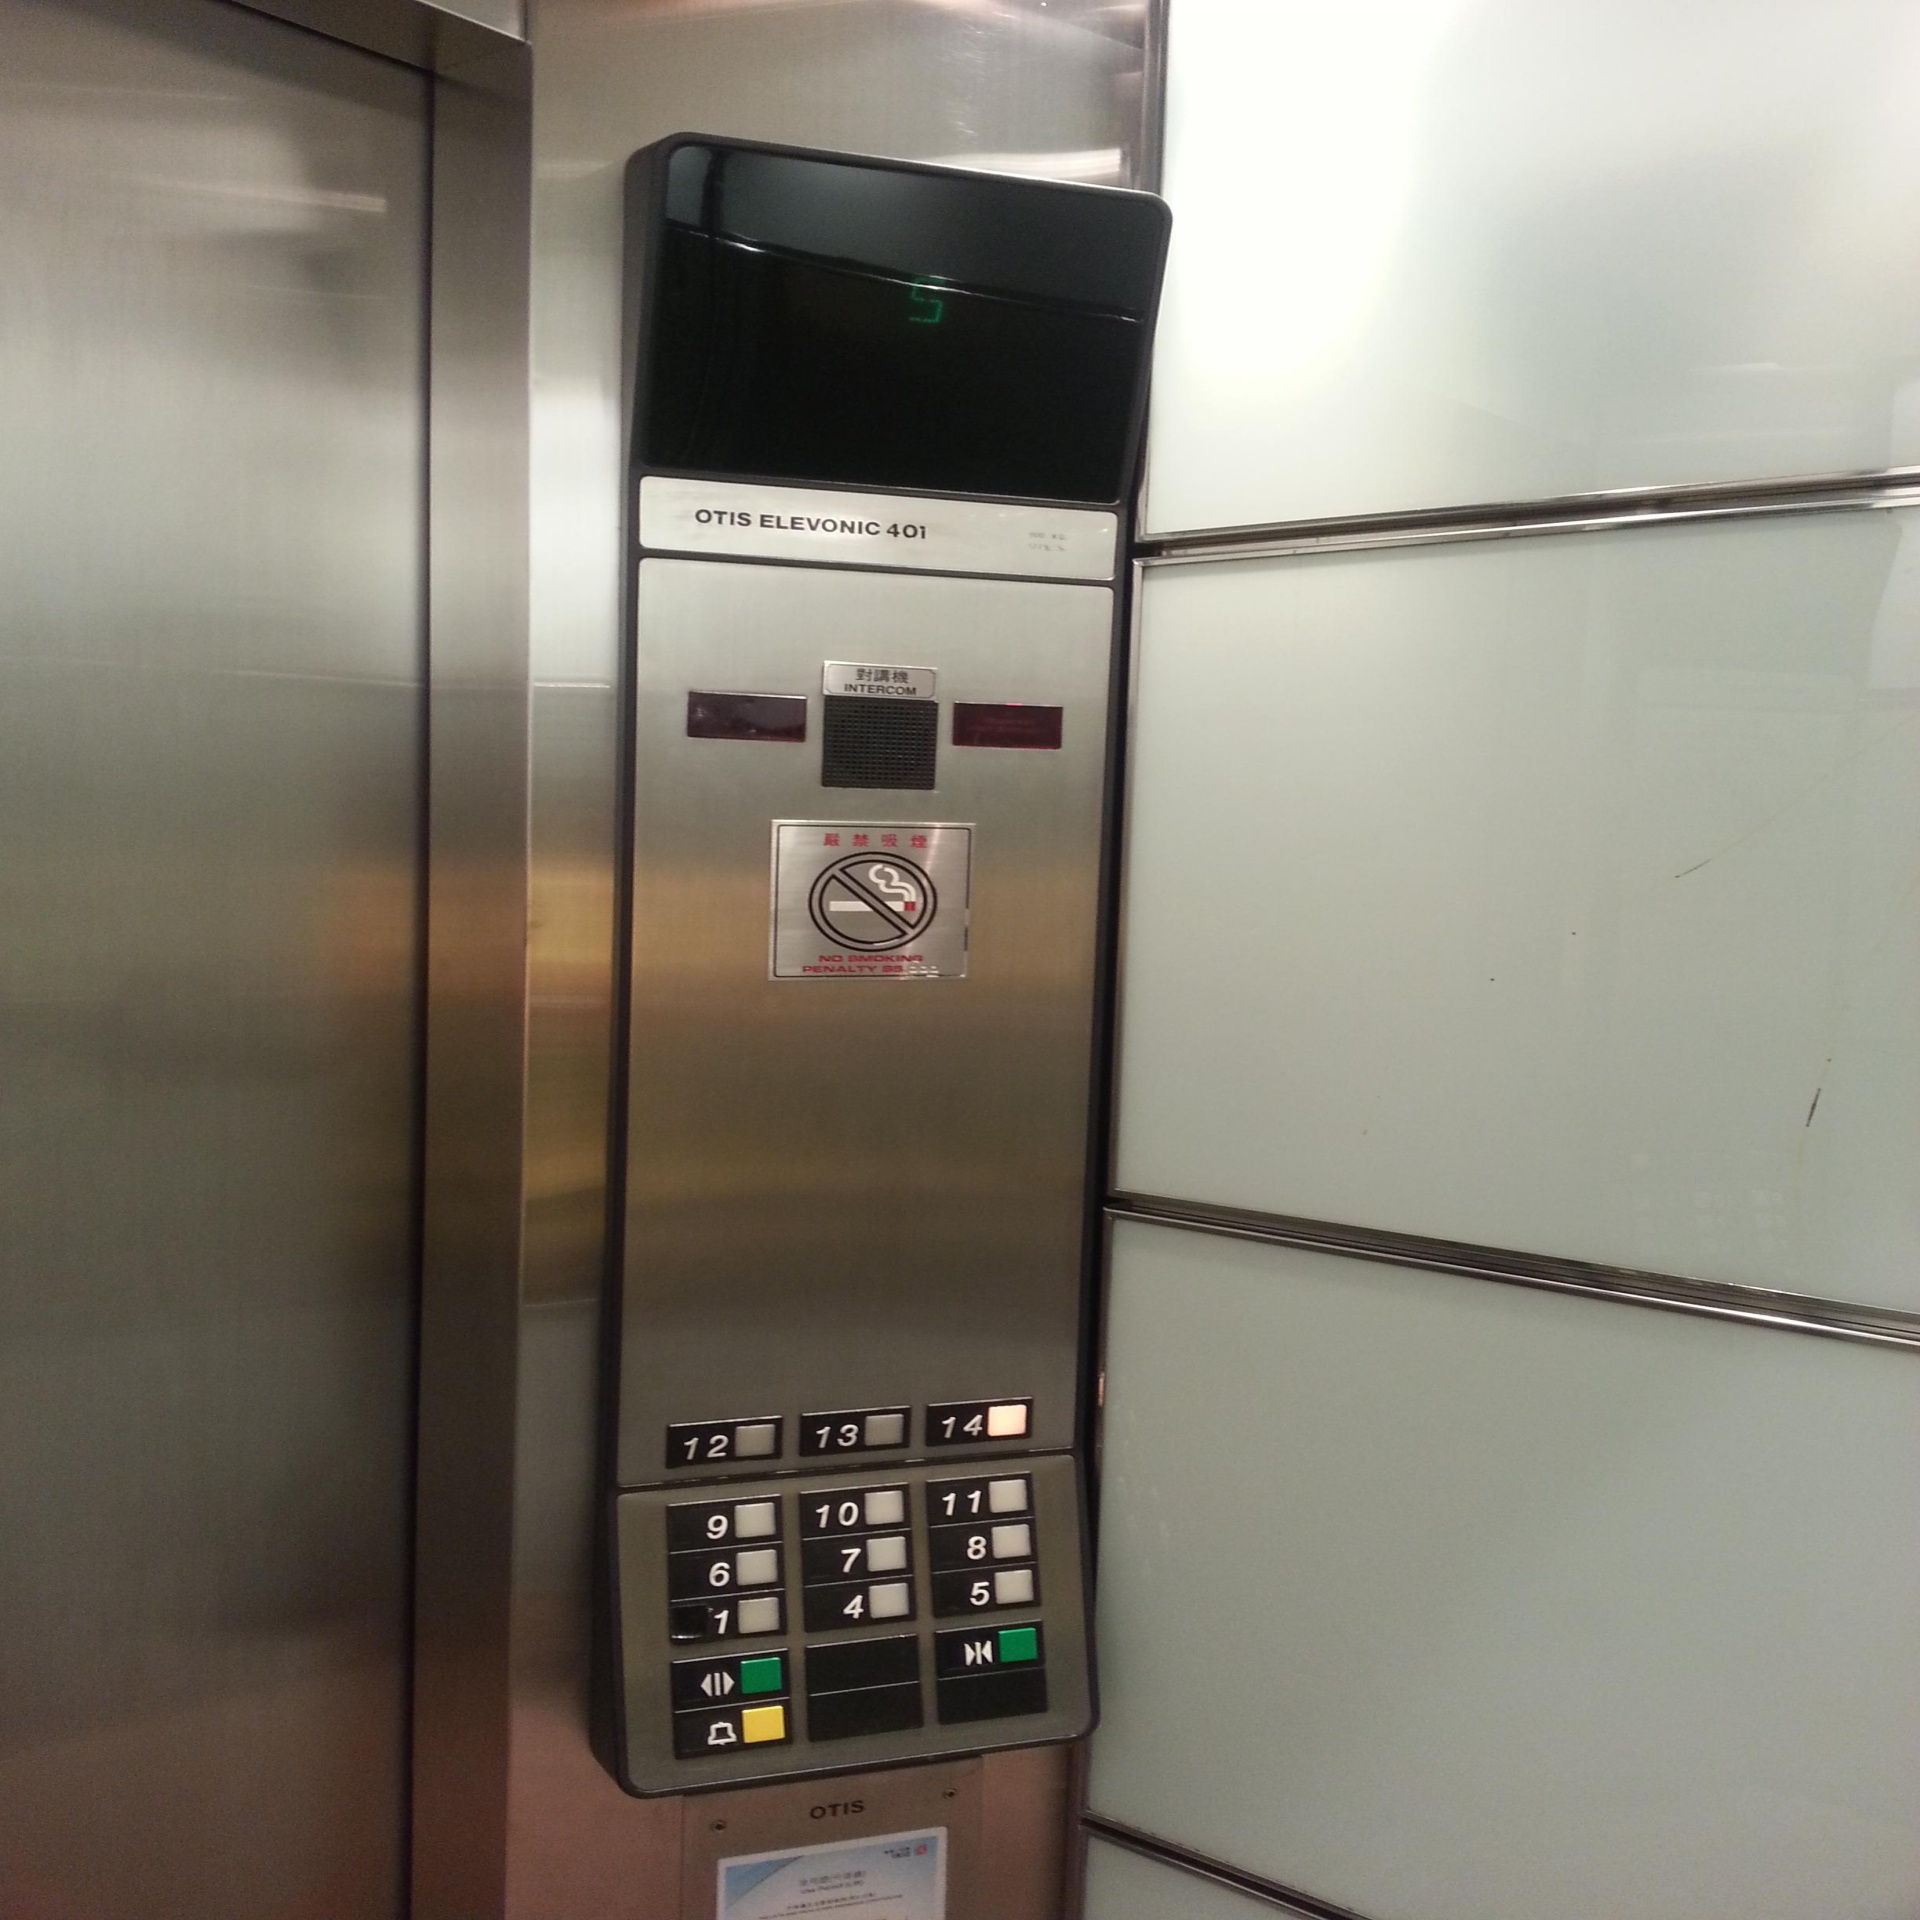1: (663, 1584, 789, 1647)
10: (795, 1479, 911, 1544)
11: (921, 1468, 1041, 1526)
12: (661, 1414, 784, 1473)
13: (795, 1400, 911, 1461)
14: (921, 1393, 1034, 1451)
4: (798, 1574, 920, 1633)
5: (925, 1561, 1044, 1619)
6: (663, 1538, 782, 1598)
7: (796, 1524, 918, 1588)
8: (923, 1516, 1037, 1574)
9: (659, 1493, 786, 1554)
alarm: (668, 1697, 791, 1762)
close: (928, 1618, 1046, 1677)
led: (608, 120, 1185, 524)
open: (666, 1646, 795, 1714)
